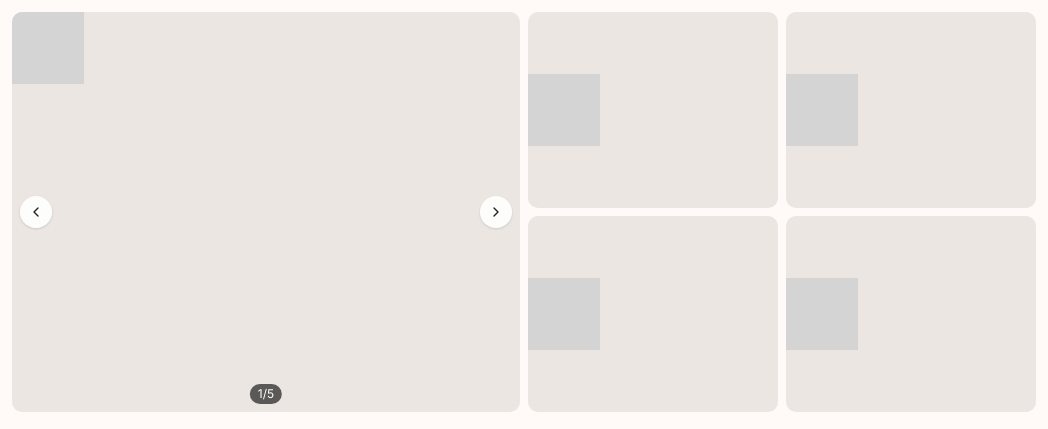
Scenario: Carousel › avec plusieurs images › affiche l'image choisie en miniature
This screenshot has width=1048, height=429.
Click the button named "Afficher la photo 4".
click(653, 314)  # box [528,216,778,412]
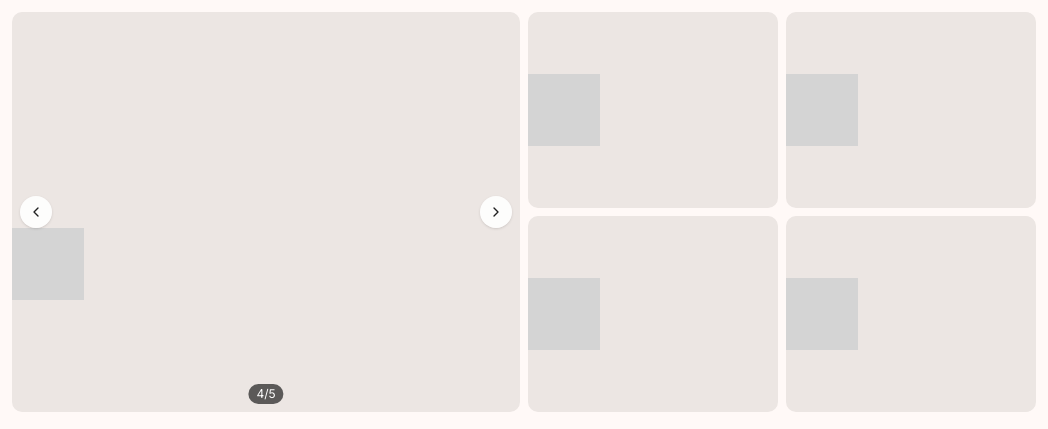
Now the text "4/5" is shown, box [248,384,284,404]
